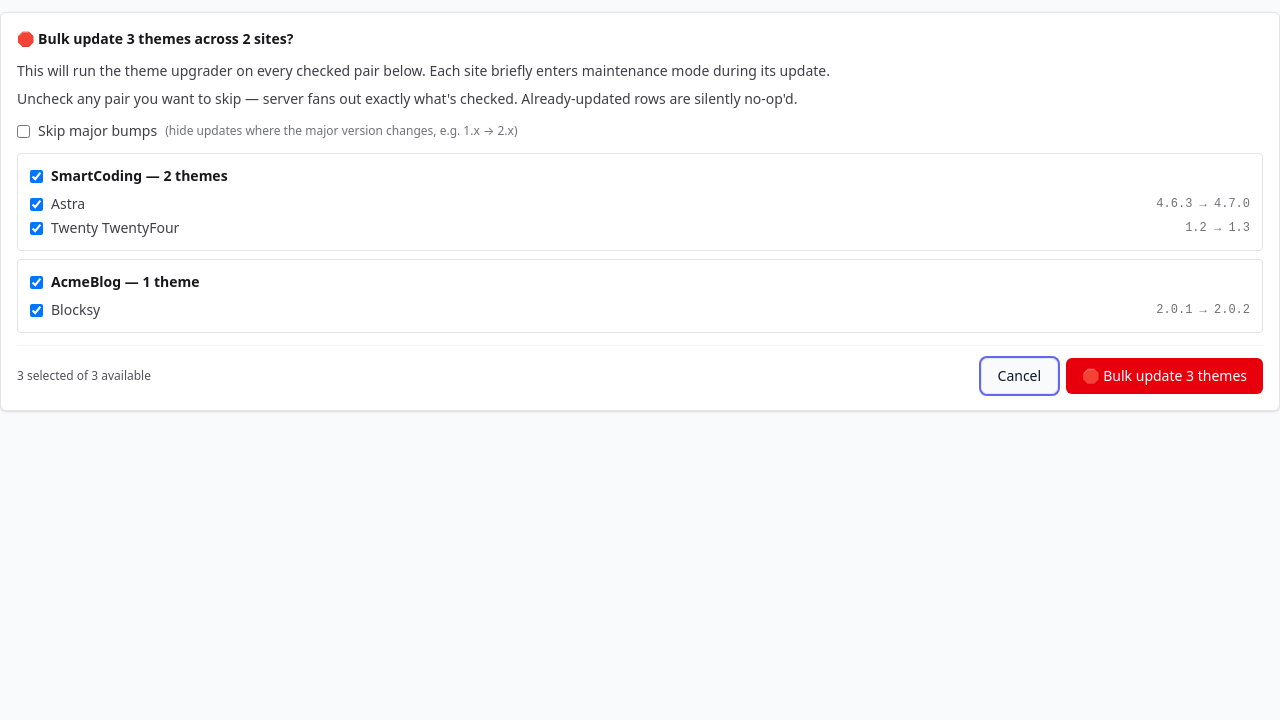
Test: ConfirmBulkUpdateThemesDialog › manualUncheckUpdatesFooterCounter
This screenshot has width=1280, height=720.
Click the checkbox named "astra" at (36, 204), box [30,198,43,210]
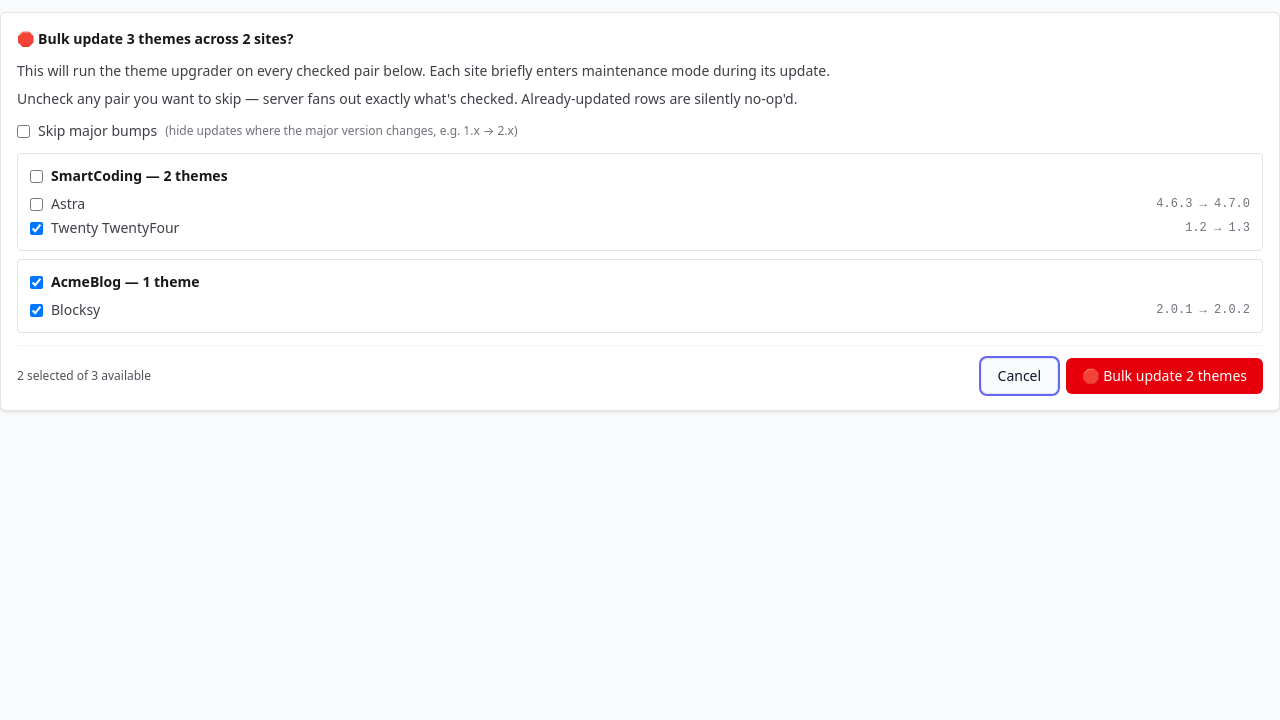
expect the text "2 selected of 3 available" is shown: met, box [17,368,151,384]
